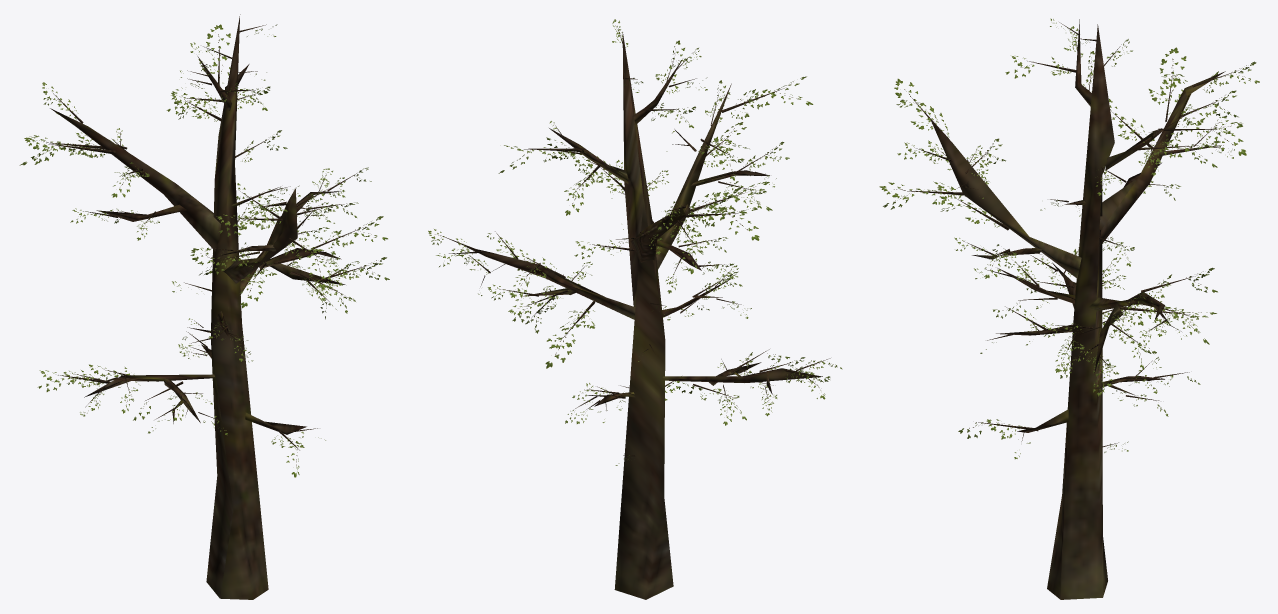
The model's file is Tree 4.FBX.
3 renders of one model, left to right at view 1: azimuth 30°, elevation 25°; view 2: azimuth 150°, elevation 25°; view 3: azimuth 270°, elevation 25°, orthographic. The views are drawn at different scales.
Parts seen in each view (by area): view 1: Trunk; view 2: Trunk; view 3: Trunk.
Part boxes in pixels (<box>): Trunk: <box>19,14,389,599</box>; Trunk: <box>428,19,842,599</box>; Trunk: <box>879,18,1259,599</box>.
Size of the model in its own units: 1136 by 1617 by 995.
